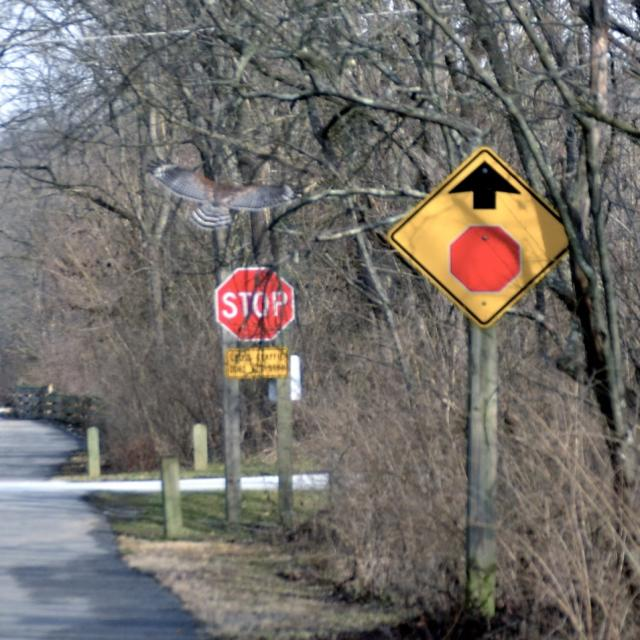Stop-sign: (215, 265, 296, 344)
